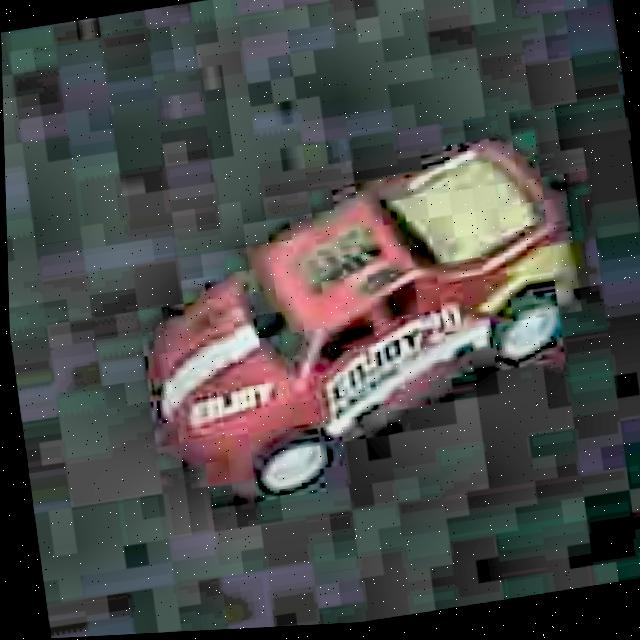car: (120, 120, 610, 535)
